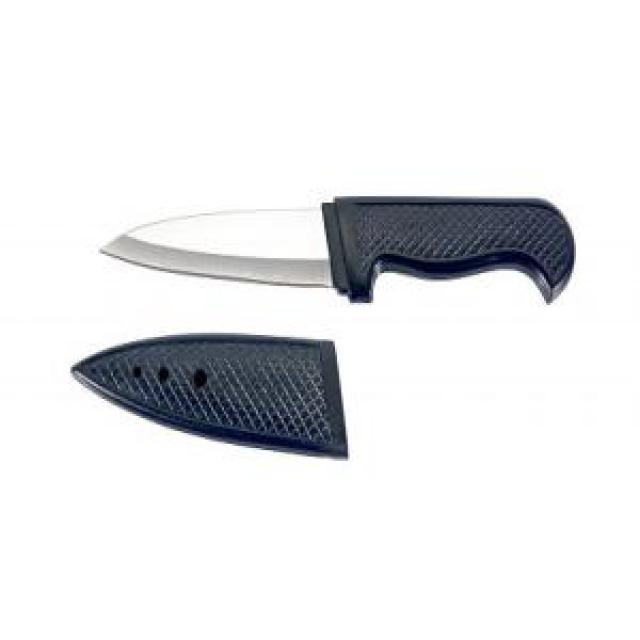knife: (100, 190, 578, 323)
